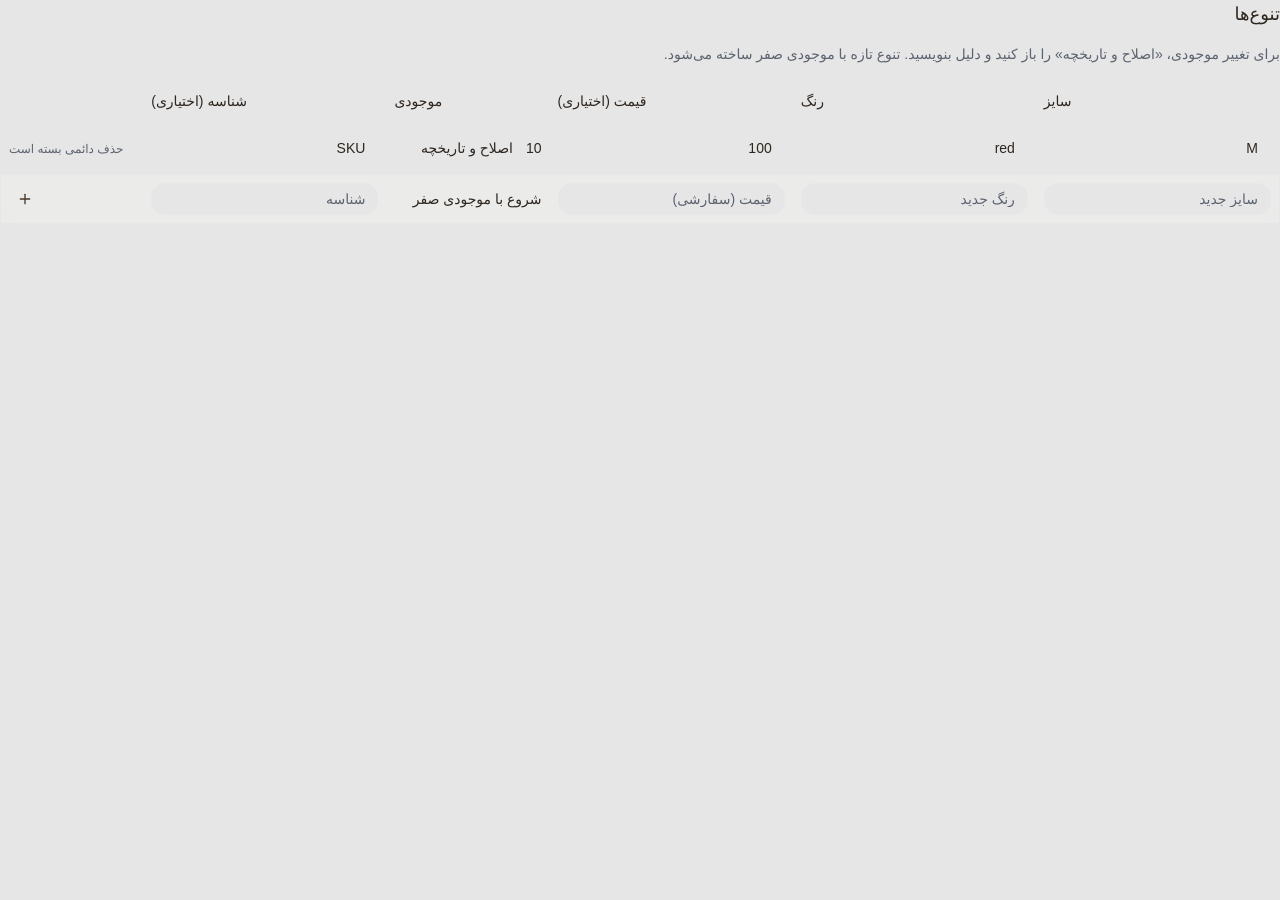
never exposes the legacy stock number input or a fallback when the server gate is closed
The image size is (1280, 900).
expect the text "10" is shown: met, box [526, 140, 542, 156]
expect the text "شروع با موجودی صفر" is shown: met, box [413, 190, 542, 206]
Click the button "اصلاح و تاریخچه": (467, 148) [408, 130, 526, 166]
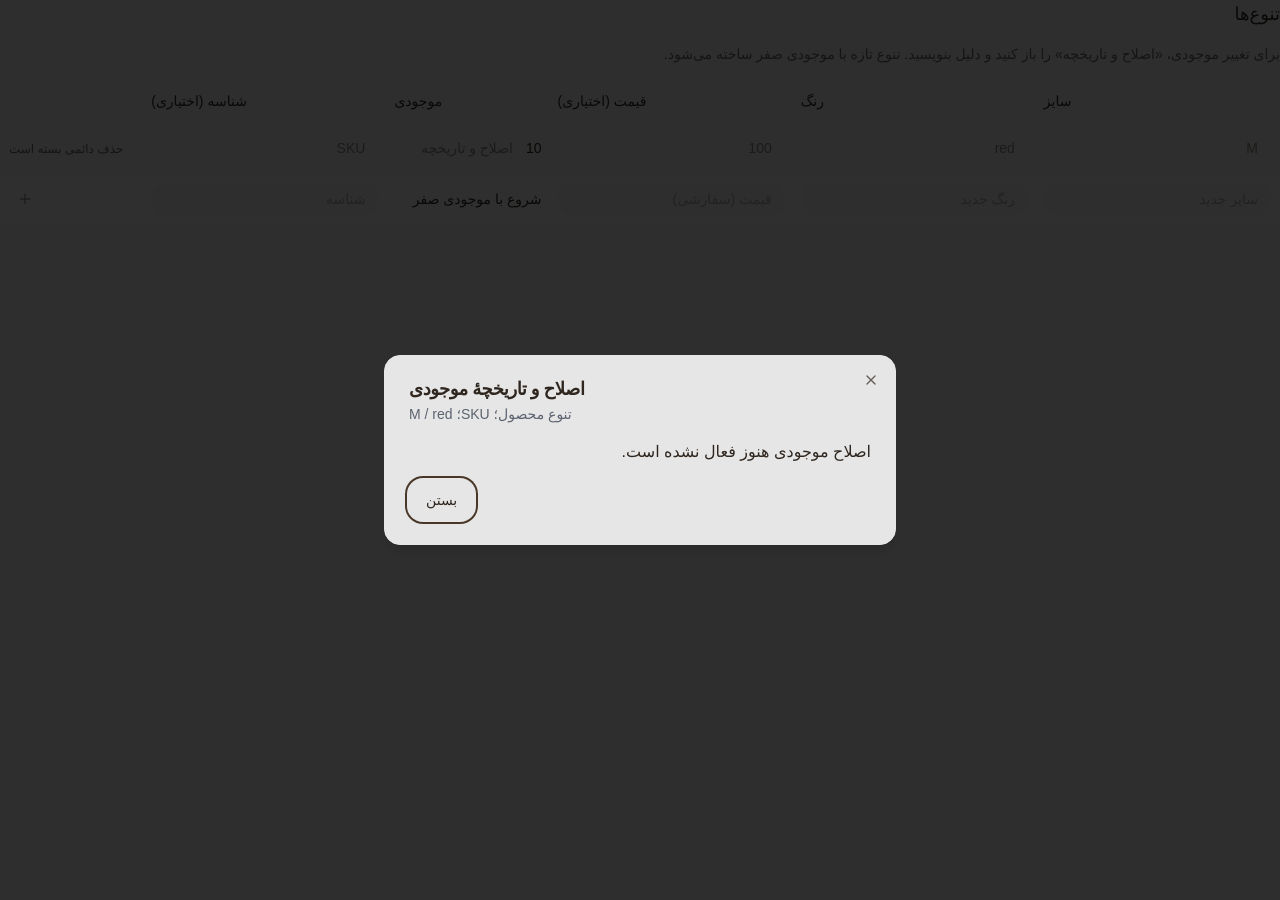
expect the text "اصلاح موجودی هنوز فعال نشده است." is shown: met, box [622, 443, 871, 460]
